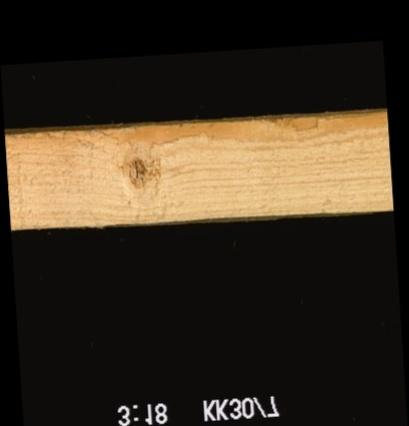sound_knot: (123, 153, 154, 193)
